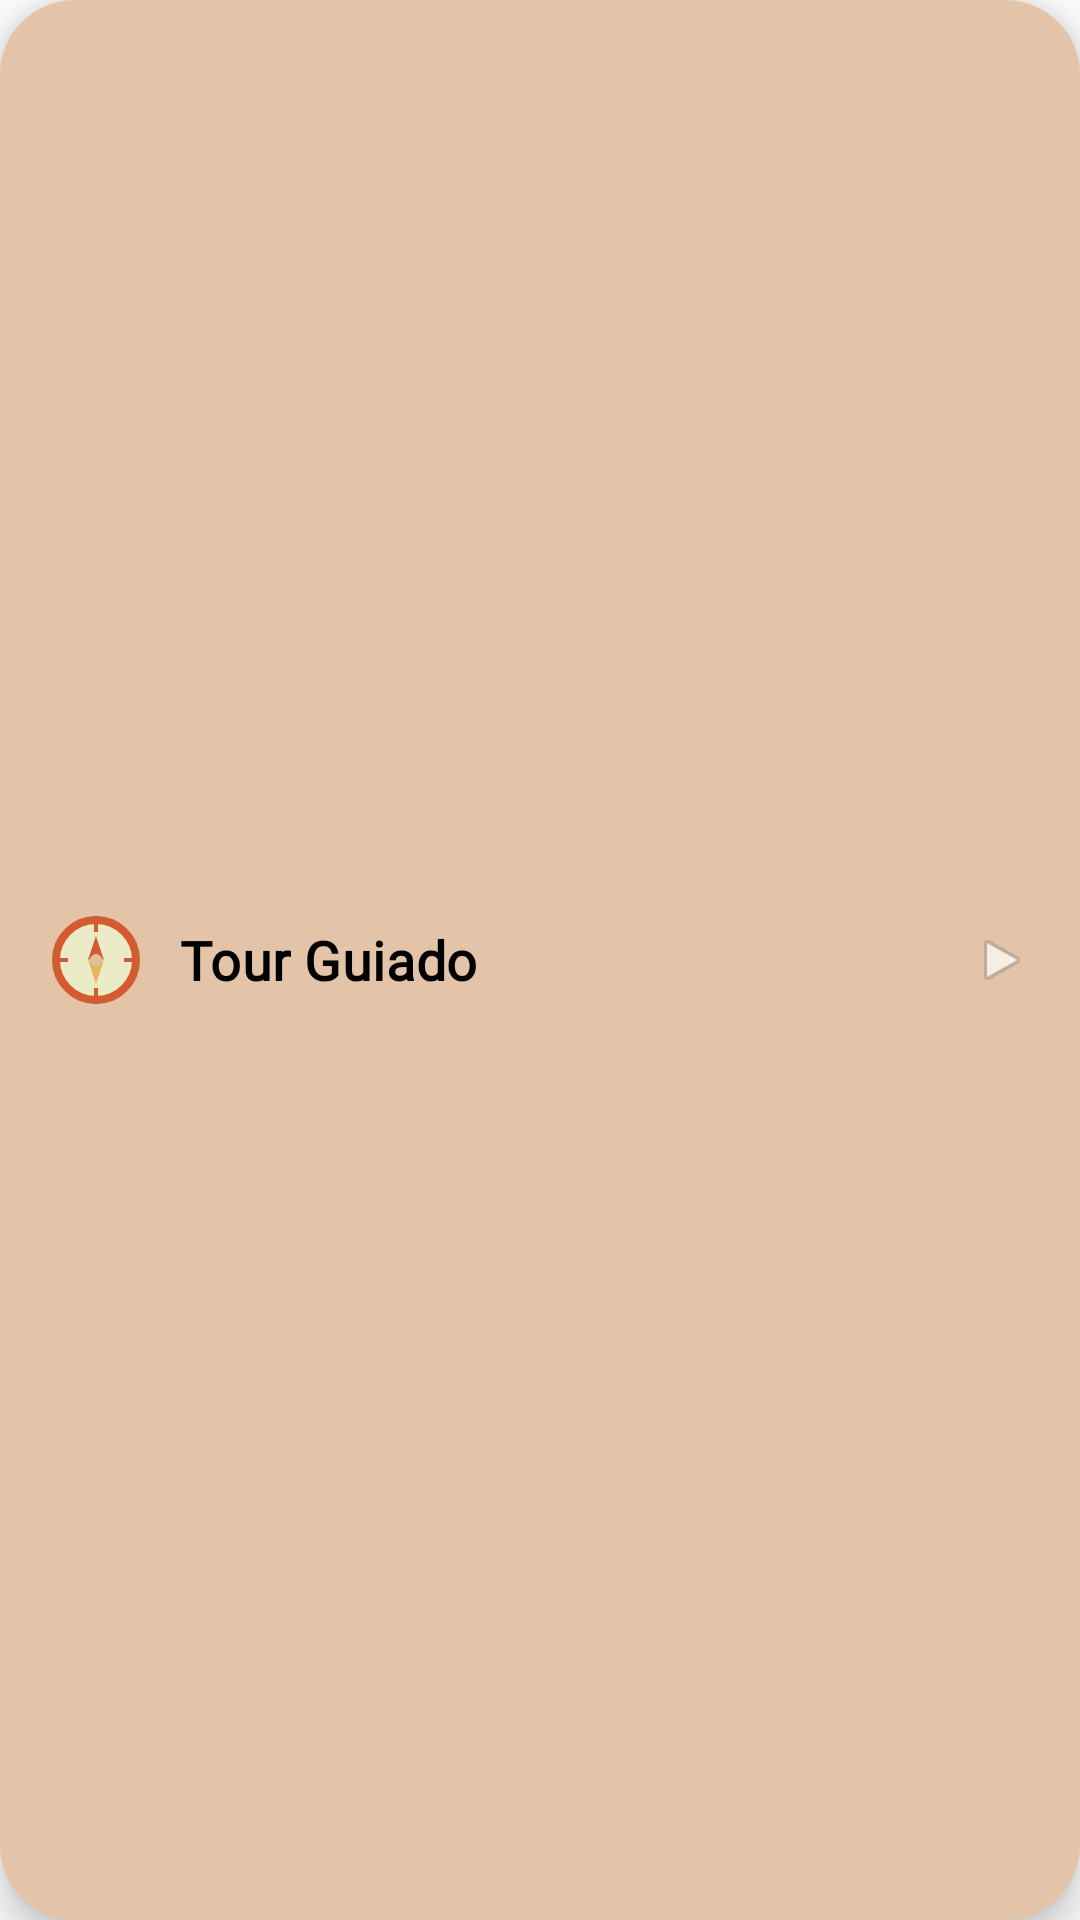

Where to tap for icons on this 1080×1920 app screen, as [x,y]:
Ir: [1002,960]
